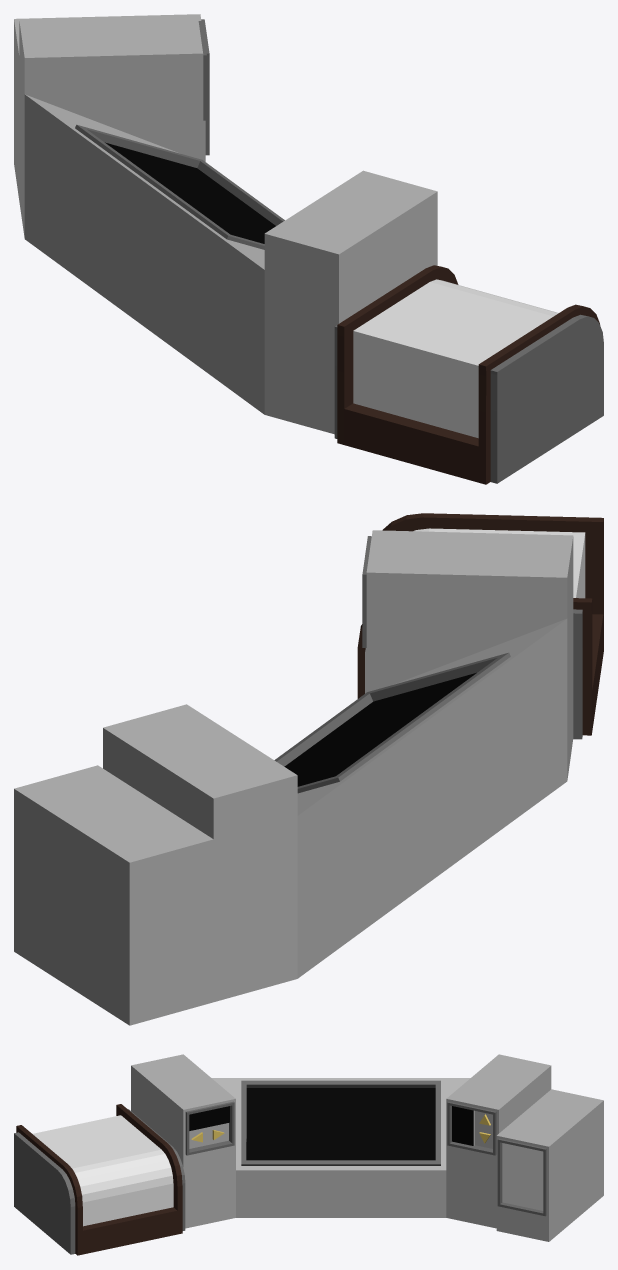
File: Server_Hub.fbx
The picture shows the model from 3 angles, top to bottom: view 1: azimuth 30°, elevation 25°; view 2: azimuth 150°, elevation 25°; view 3: azimuth 270°, elevation 25°; orthographic projection. The views are drawn at different scales.
Visible parts, largest first — view 1: Cube; view 2: Cube; view 3: Cube.
Part boxes in pixels (x1,y1,x2,y2): Cube: (14, 14, 603, 484); Cube: (14, 513, 603, 1025); Cube: (14, 1054, 603, 1255).
Bounding box in the file's own units: 370 × 250 × 1122.
